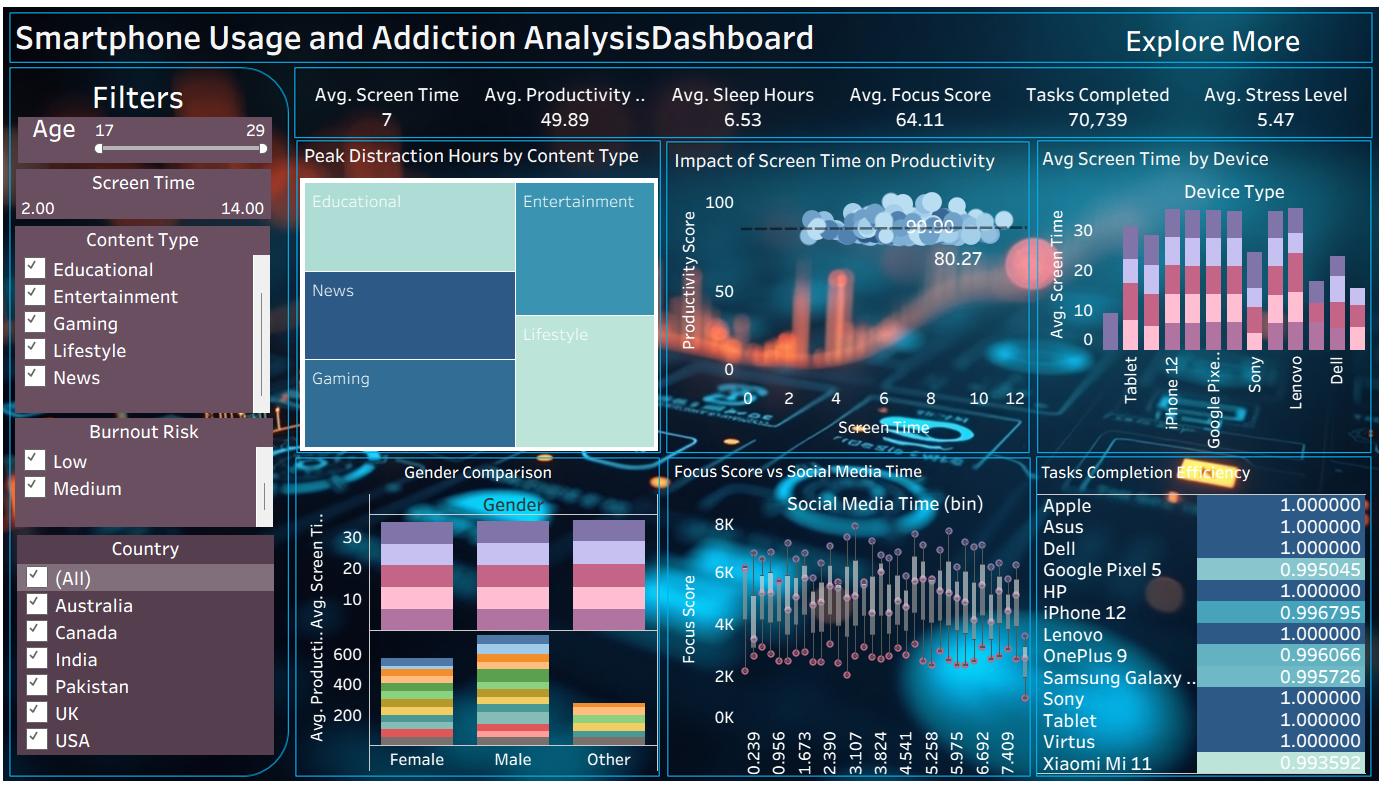

What the dashboard file says about the page in this screenshot:
{"tool":"tableau","page":{"name":"Dashboard 1","canvas":[1400,800],"ordinal":0},"visuals":[{"type":"image","param":"Image/digital_addiction_bg_2.PNG","box":[8,8,1384,784]},{"type":"text","box":[20,19,869,46]},{"type":"worksheet","title":"Peak Distraction Hours by Content Type","mark":"Automatic","box":[309,144,358,313]},{"type":"worksheet","title":"Avg Screen Time  by Device","mark":"Automatic","rows":["Screen Time"],"cols":["Device Type"],"box":[1047,147,330,309]},{"type":"worksheet","title":"Impact of Screen Time on Productivity ","mark":"Circle","rows":["Productivity Score"],"cols":["Screen Time"],"box":[679,149,357,302]},{"type":"worksheet","title":"Focus Score vs Social Media Time","mark":"Shape","rows":["Focus Score"],"cols":["Social Media Time (bin)"],"box":[679,462,359,320]},{"type":"worksheet","title":"Gender Comparison","mark":"Automatic","rows":["Screen Time","Productivity Score"],"cols":["Gender"],"box":[307,463,360,315]},{"type":"worksheet","title":"Tasks Completion Efficiency","mark":"Square","rows":["Device Type"],"box":[1046,463,329,317]}]}

Visuals, with their boxes in screenshot pixels (x1, y1, x2, y2), scaled from the page's 1400x800 canvas onto the 1381x789 screenshot:
image: (x1=8, y1=8, x2=1373, y2=781)
text: (x1=20, y1=19, x2=877, y2=64)
"Peak Distraction Hours by Content Type" worksheet: (x1=305, y1=142, x2=658, y2=451)
"Avg Screen Time  by Device" worksheet: (x1=1033, y1=145, x2=1358, y2=450)
"Impact of Screen Time on Productivity " worksheet (Circle marks): (x1=670, y1=147, x2=1022, y2=445)
"Focus Score vs Social Media Time" worksheet (Shape marks): (x1=670, y1=456, x2=1024, y2=771)
"Gender Comparison" worksheet: (x1=303, y1=457, x2=658, y2=767)
"Tasks Completion Efficiency" worksheet (Square marks): (x1=1032, y1=457, x2=1356, y2=769)
